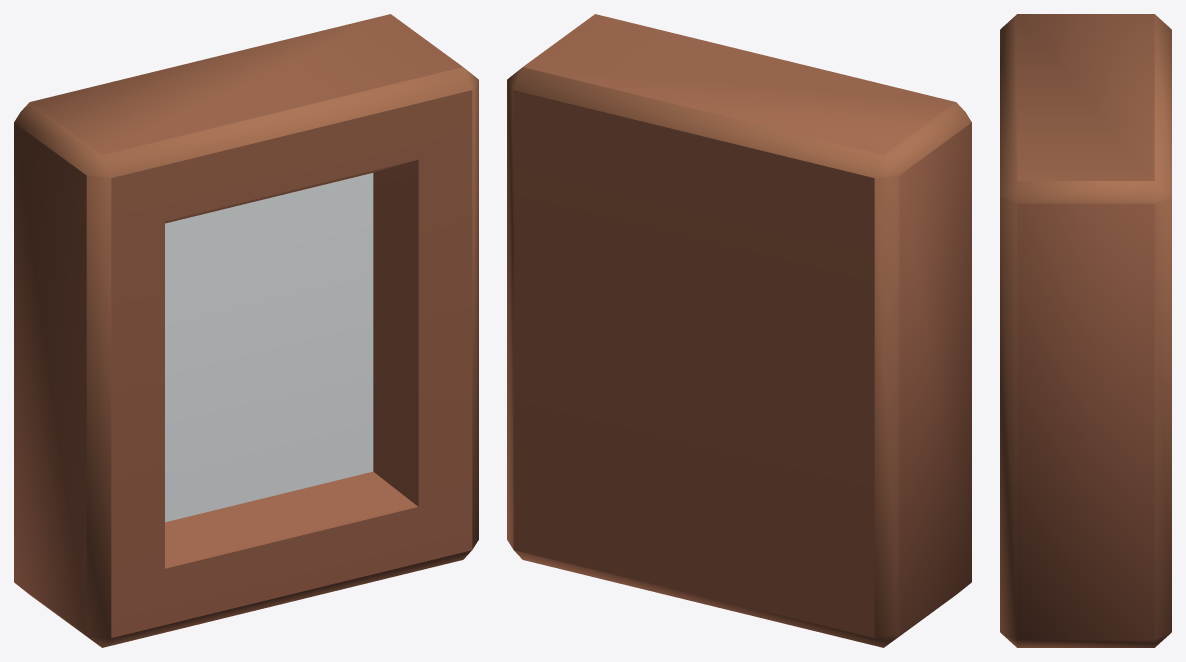
The model's file is pictureframe-small-a.glb.
The picture shows the model from 3 angles, left to right: view 1: azimuth 30°, elevation 25°; view 2: azimuth 150°, elevation 25°; view 3: azimuth 270°, elevation 25°; orthographic projection. The views are drawn at different scales.
Parts seen in each view (by area): view 1: pictureframe_small_A; view 2: pictureframe_small_A; view 3: pictureframe_small_A.
Part boxes in pixels (x1,y1,x2,y2): pictureframe_small_A: [14, 14, 478, 647]; pictureframe_small_A: [507, 14, 971, 647]; pictureframe_small_A: [1000, 14, 1171, 647].
Size of the model in its own units: 0.5 by 0.6 by 0.2.
